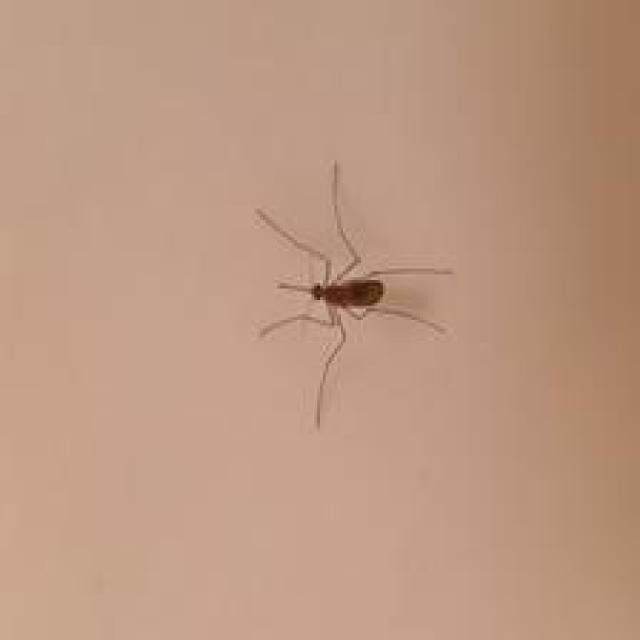Culex: (252, 159, 454, 427)
